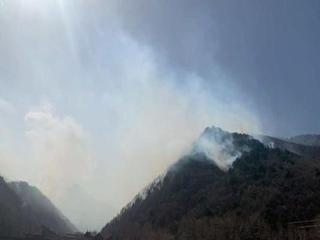smoke: (151, 80, 275, 170)
